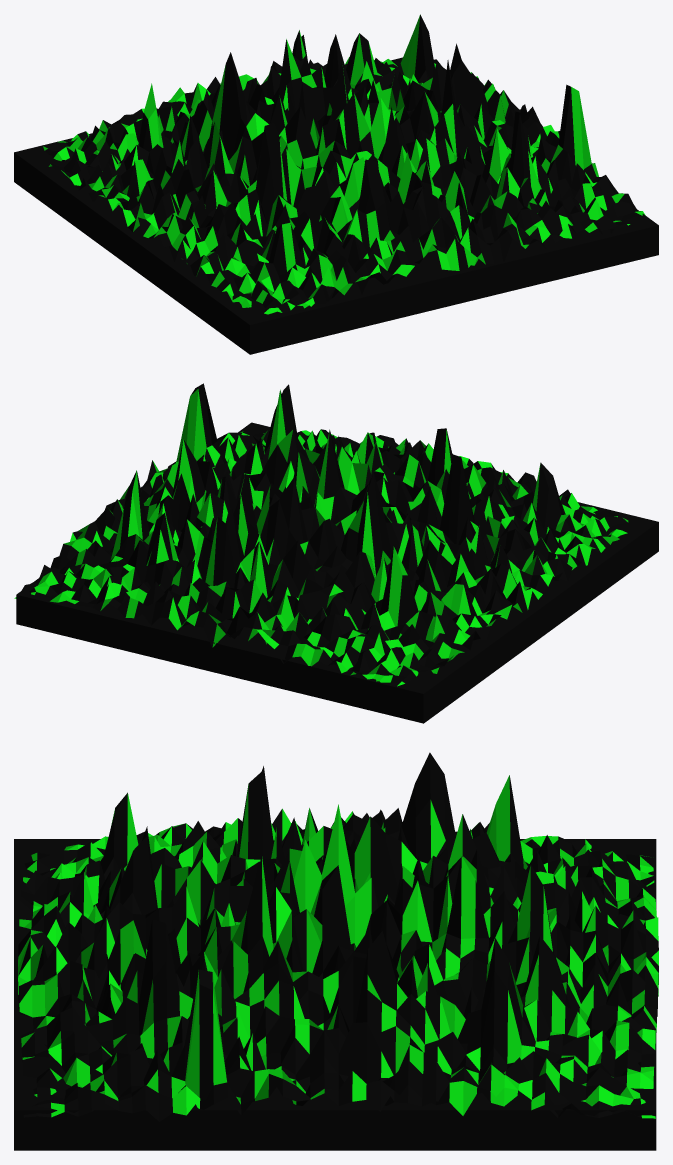
The model's file is SpikeFloor.fbx.
3 renders of one model, top to bottom at view 1: azimuth 30°, elevation 25°; view 2: azimuth 150°, elevation 25°; view 3: azimuth 270°, elevation 25°, orthographic. The views are drawn at different scales.
Visible parts, largest first — view 1: Plane; view 2: Plane; view 3: Plane.
Part boxes in pixels (<box>): Plane: <box>14,14,658,354</box>; Plane: <box>14,383,658,723</box>; Plane: <box>14,752,658,1150</box>.
Bounding box in the file's own units: 3123 × 1143 × 3089.
